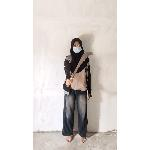Golok: (62, 48, 100, 88)
